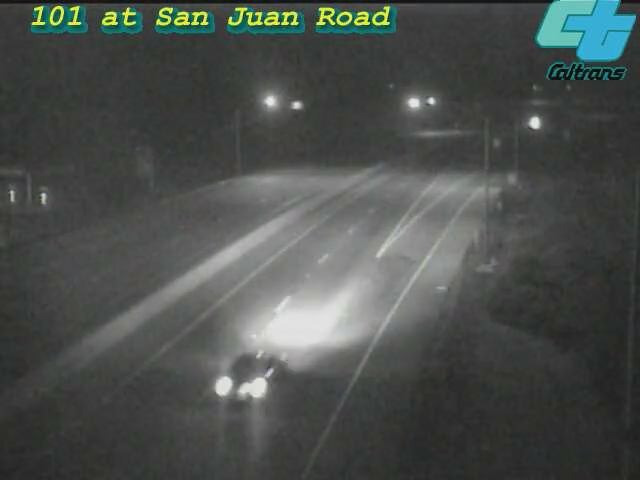vehicle: (194, 318, 304, 428), (509, 99, 559, 149)
